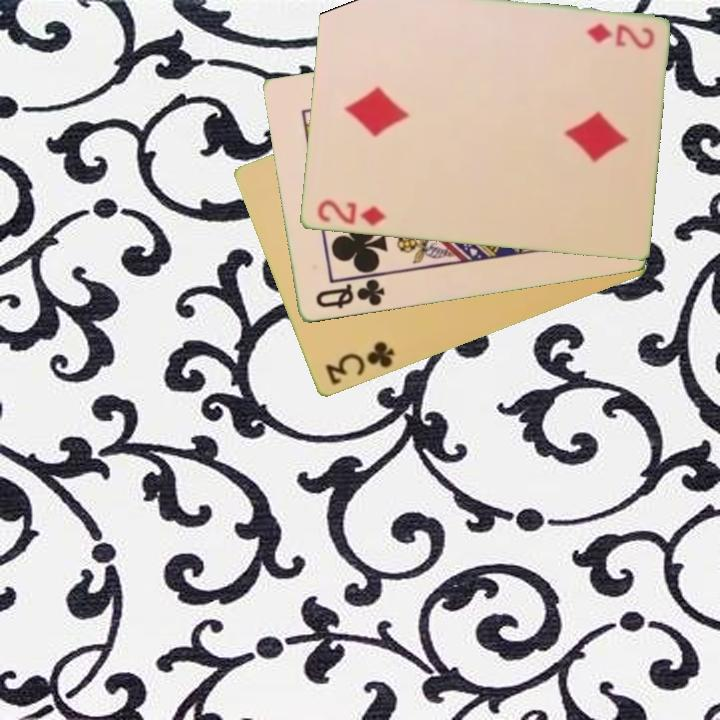2d: (313, 197, 388, 229), (582, 20, 657, 52)
3c: (321, 338, 398, 388)
Qc: (311, 275, 388, 312)
